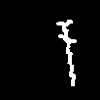double_crochet: (56, 20, 76, 85)
